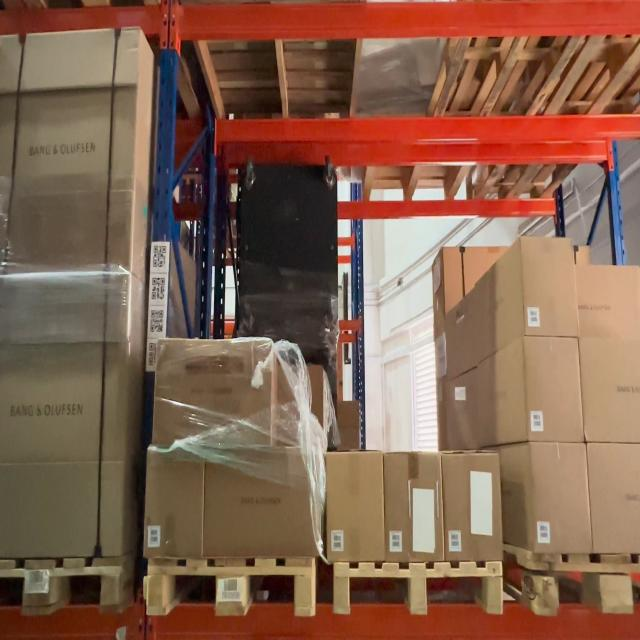box: (151, 337, 275, 449), (203, 450, 321, 557), (143, 447, 207, 560), (441, 450, 503, 562), (531, 443, 592, 554), (383, 453, 444, 564), (326, 452, 386, 563), (523, 338, 584, 443), (521, 238, 580, 337), (276, 365, 324, 449)
